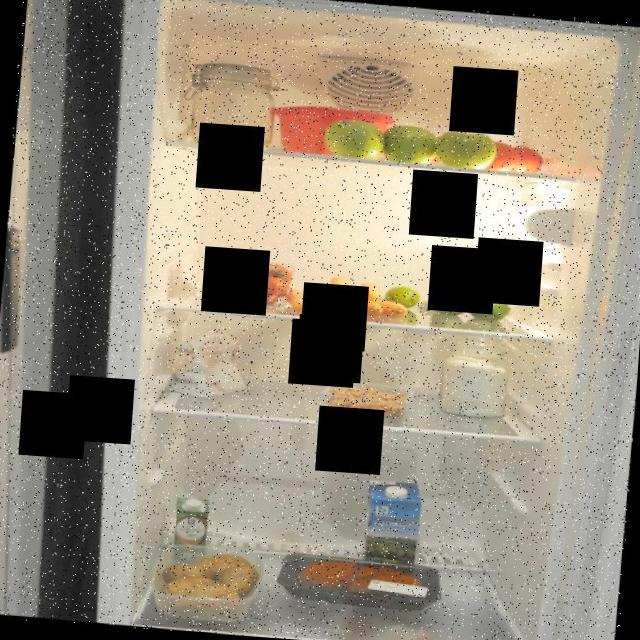Carne vacuno: (272, 550, 446, 614)
Gambas/Langostinos: (330, 383, 404, 421)
Leche: (360, 475, 424, 572)
Mantequilla: (268, 100, 396, 160)
Manzana: (322, 114, 502, 174)
Patata: (152, 539, 264, 625)
Tomate: (479, 136, 547, 176)
Zanahoria: (282, 270, 412, 322)
flour: (178, 52, 286, 152), (164, 319, 252, 403)
heavy_cream: (170, 496, 209, 562)
strawberries: (206, 250, 296, 310)
sugar: (436, 330, 512, 420)
